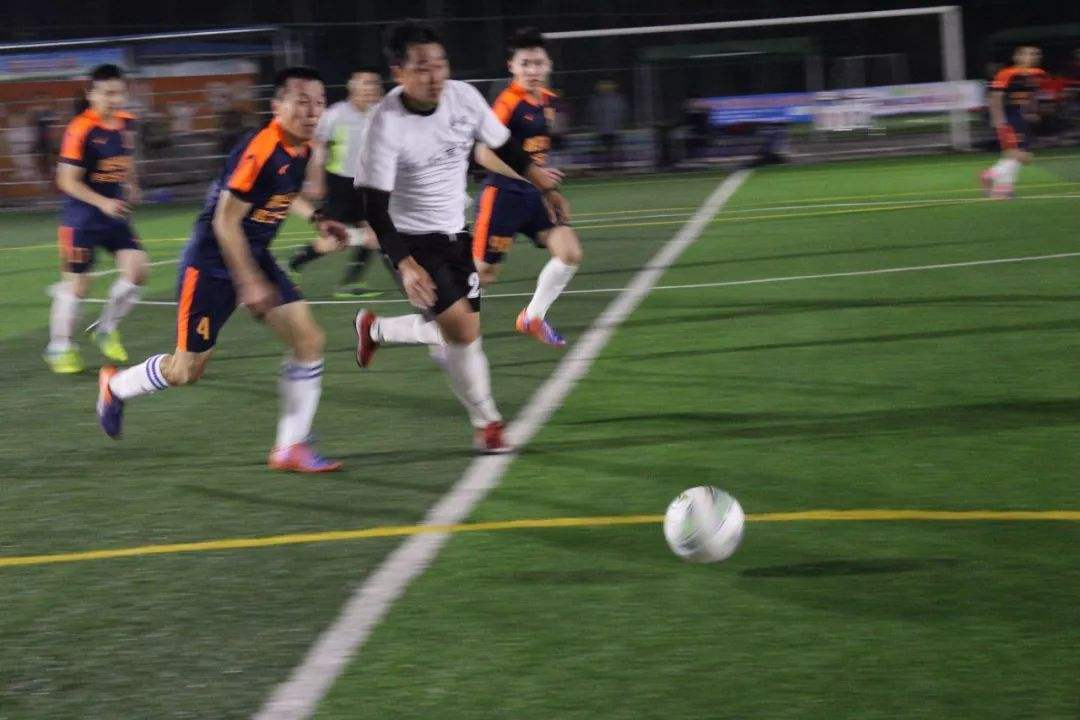football: (663, 482, 747, 567)
